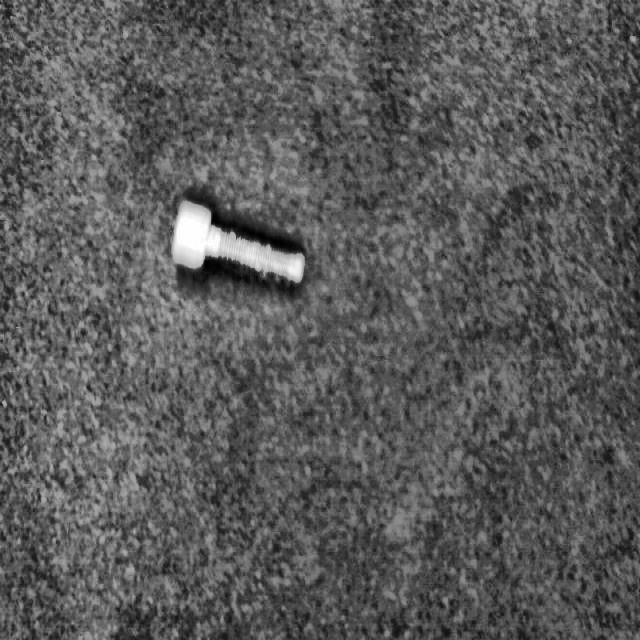Socket head cap screw: (170, 198, 306, 290)
